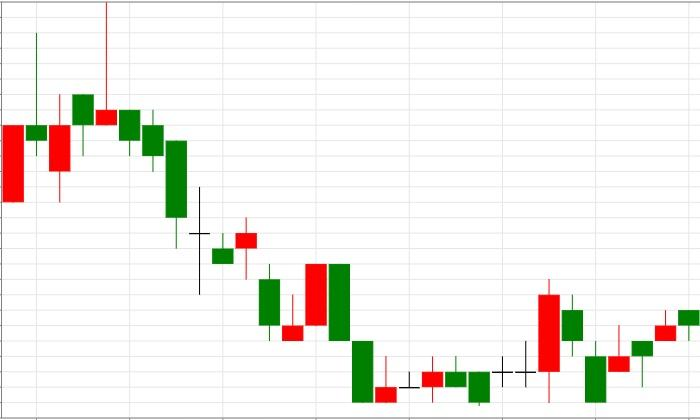morning_star_rise: (118, 109, 327, 341)
